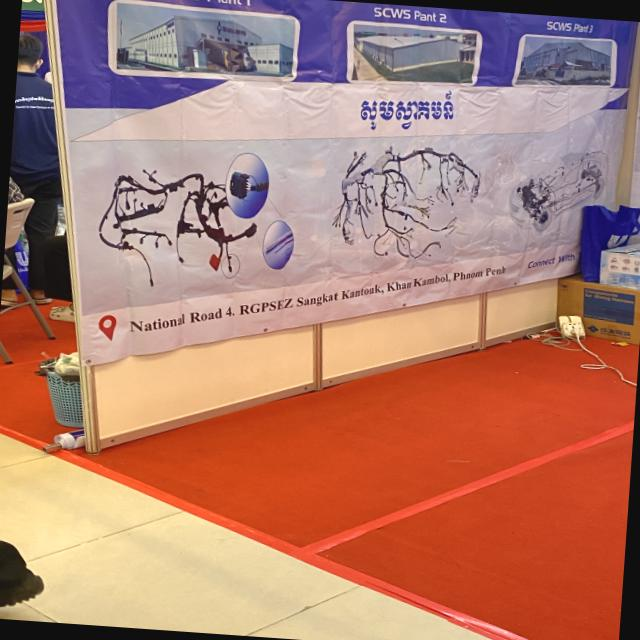503: (242, 0, 256, 9)
631: (434, 10, 449, 26)
702: (587, 22, 595, 33)
741: (225, 303, 235, 319)
Yolov11_80vkh: (355, 87, 460, 133)
